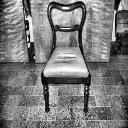chair_success: (41, 1, 93, 116)
